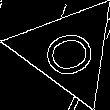O_E: (34, 21, 102, 80)
